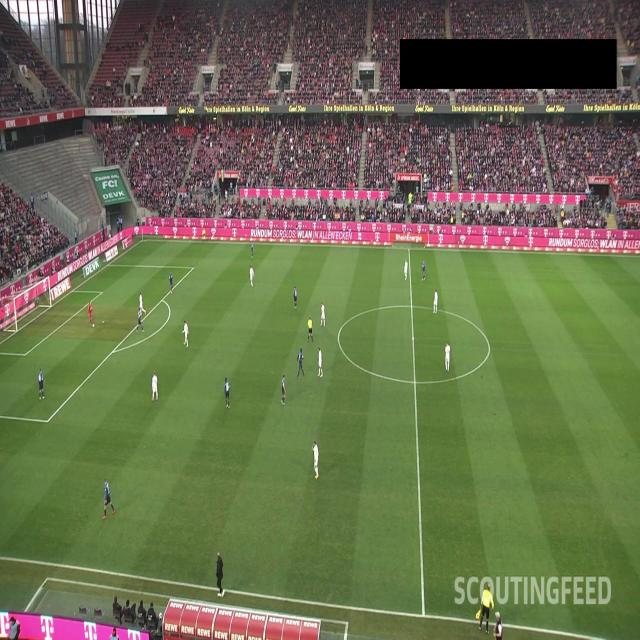goalkeeper: (88, 300, 94, 328)
player: (102, 478, 116, 520), (310, 440, 320, 480), (216, 551, 224, 597), (296, 347, 306, 379), (136, 304, 146, 332), (37, 368, 44, 400), (182, 320, 189, 348), (224, 377, 230, 409), (152, 371, 158, 402), (317, 347, 323, 377), (445, 342, 451, 372), (281, 374, 287, 404), (139, 292, 146, 316), (320, 302, 326, 328), (433, 288, 439, 314), (168, 272, 174, 294), (403, 259, 408, 281), (293, 285, 297, 310), (250, 265, 254, 287), (422, 260, 426, 281), (250, 243, 254, 259)
referee: (478, 582, 494, 634), (307, 316, 313, 342), (202, 228, 208, 243)
